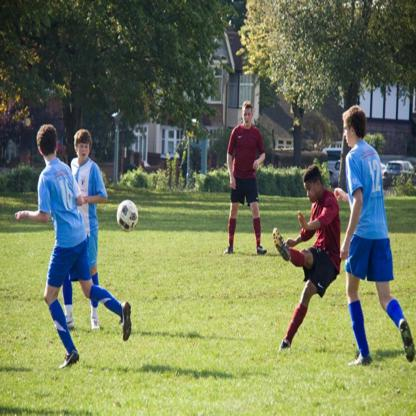face: (304, 181, 318, 204), (344, 121, 355, 148), (79, 142, 90, 161), (244, 109, 252, 127)
